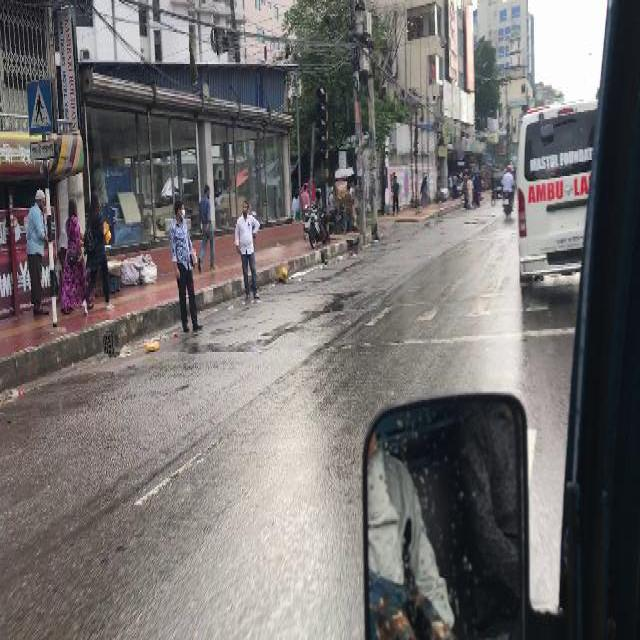ambulance: (518, 98, 592, 290)
motorbike: (302, 207, 330, 248), (501, 166, 513, 218)
rickshaw: (333, 178, 349, 234), (304, 180, 316, 204)
